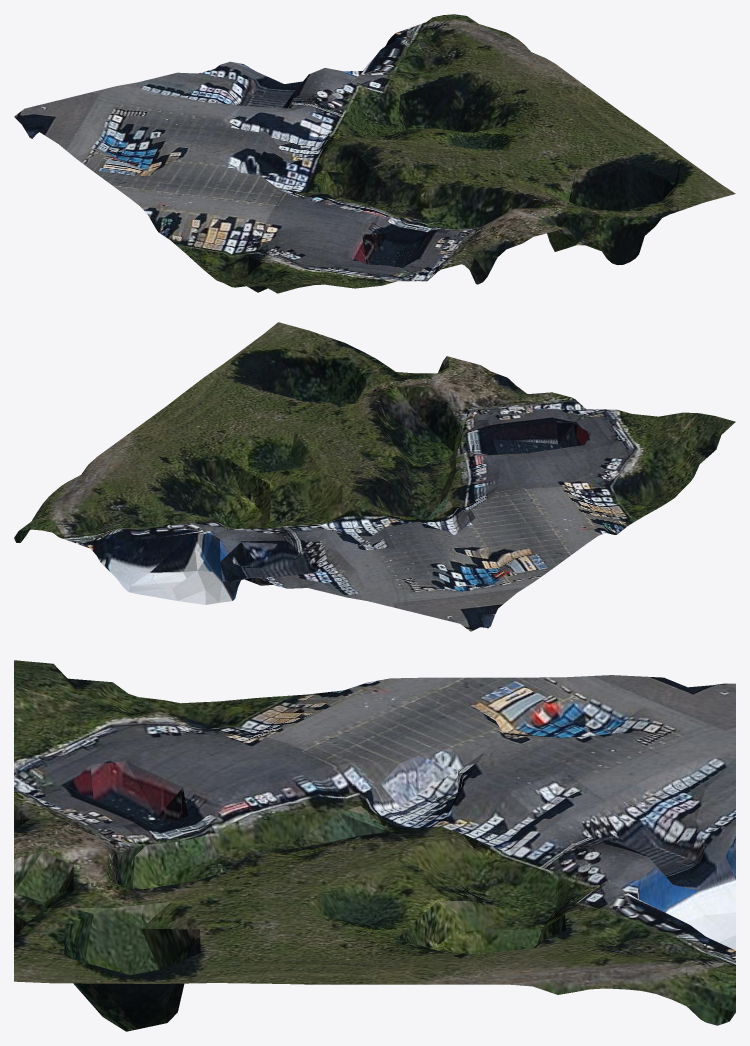
The model's file is map_15_8182_13780.dae.
3 views of the same model, one above another, from view 1: azimuth 30°, elevation 25°; view 2: azimuth 150°, elevation 25°; view 3: azimuth 270°, elevation 25° (orthographic). The views are drawn at different scales.
Visible parts, largest first — view 1: Ter0; view 2: Ter0; view 3: Ter0.
Boxes of the visible parts, x1=… form: Ter0: x1=14, y1=14, x2=735, y2=293; Ter0: x1=14, y1=322, x2=735, y2=631; Ter0: x1=14, y1=660, x2=735, y2=1031.
Size of the model in its own units: 63.88 by 63.88 by 10.7.
3 materials, 3 textured.
